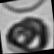correct: (1, 10, 49, 54)
